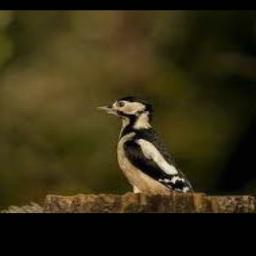Woodpecker: (94, 97, 194, 193)
